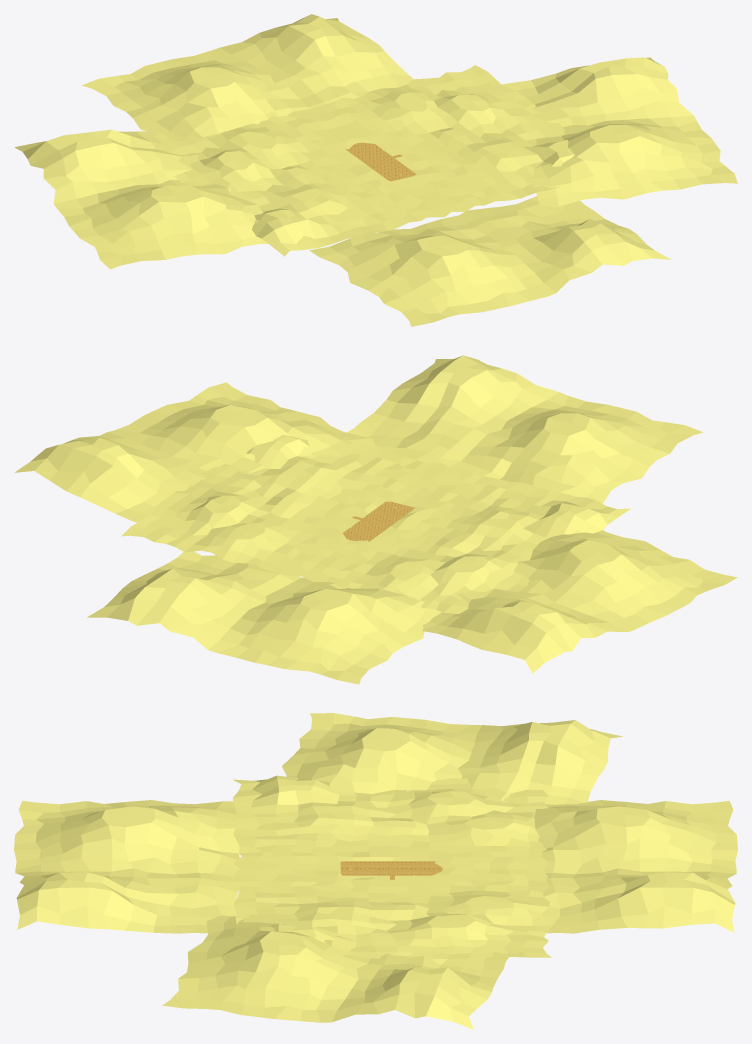
File: Suelo.fbx
The picture shows the model from 3 angles, top to bottom: view 1: azimuth 30°, elevation 25°; view 2: azimuth 150°, elevation 25°; view 3: azimuth 270°, elevation 25°; orthographic projection. The views are drawn at different scales.
Visible parts, largest first — view 1: Piso3, Piso2, Piso3.001, Piso1; view 2: Piso3, Piso2, Piso3.001, Piso1; view 3: Piso3, Piso2, Piso3.001, Piso1.
Boxes of the visible parts, x1,y1,x2,y2 form: Piso3: [81, 14, 671, 326]; Piso2: [160, 65, 574, 256]; Piso3.001: [14, 57, 737, 269]; Piso1: [345, 142, 415, 181]; Piso3: [87, 355, 702, 684]; Piso2: [121, 434, 631, 613]; Piso3.001: [14, 382, 737, 673]; Piso1: [343, 501, 414, 541]; Piso3: [14, 800, 737, 933]; Piso2: [232, 775, 552, 959]; Piso3.001: [162, 713, 622, 1029]; Piso1: [340, 861, 442, 879].
Size of the model in its own units: 119311 by 5082 by 113162.
